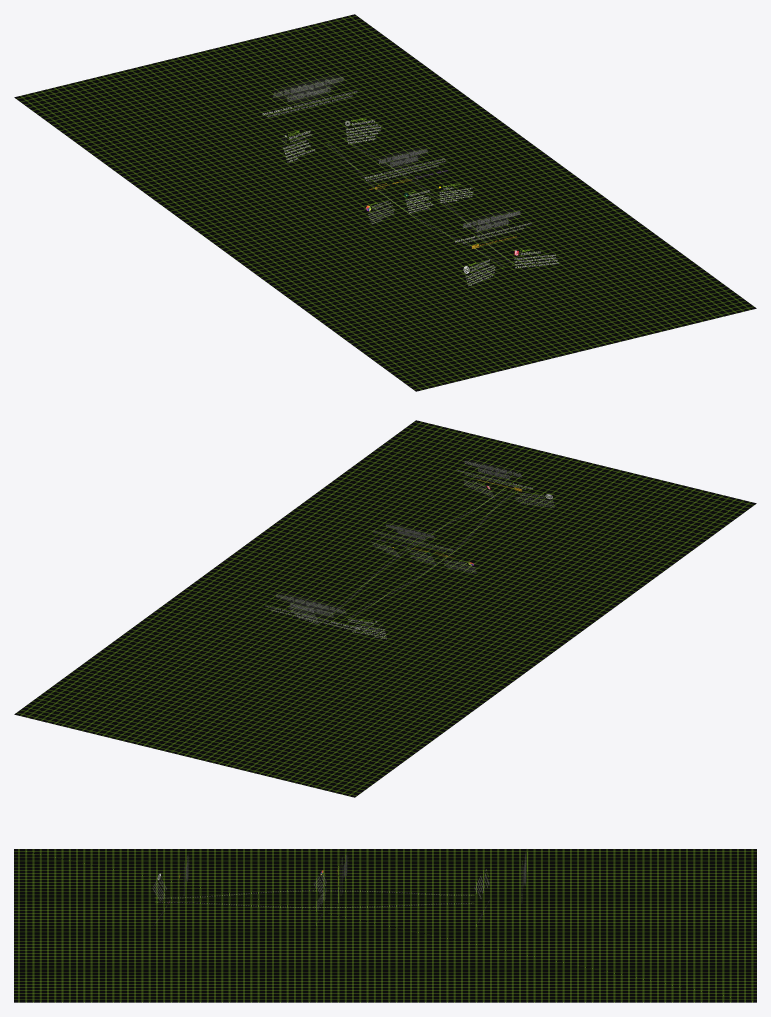
File: journey.glb
The picture shows the model from 3 angles, top to bottom: view 1: azimuth 30°, elevation 25°; view 2: azimuth 150°, elevation 25°; view 3: azimuth 270°, elevation 25°; orthographic projection. The views are drawn at different scales.
Parts seen in each view (by area): view 1: gridtile, textureset2.002, textureset2.003, textureset2.001; view 2: gridtile, textureset2.002, textureset2.001, textureset2.003; view 3: gridtile.
Boxes of the visible parts, x1,y1,x2,y2 form: gridtile: (14,14,756,391); textureset2.002: (262,75,357,117); textureset2.003: (364,148,445,181); textureset2.001: (455,210,531,243); gridtile: (14,420,756,797); textureset2.002: (265,593,359,631); textureset2.001: (456,460,532,489); textureset2.003: (372,524,452,551); gridtile: (14,849,756,1002).
Size of the model in its own units: 44.46 by 9.93 by 90.82.
4 materials, 4 textured.
